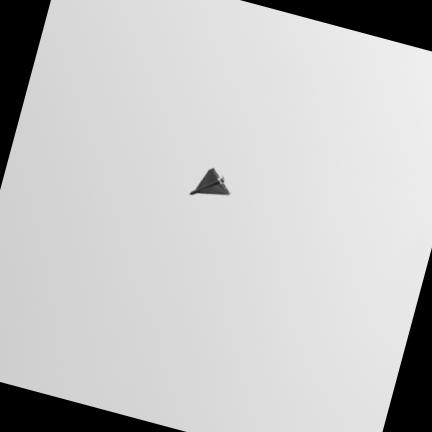Shahed: (190, 168, 229, 193)
